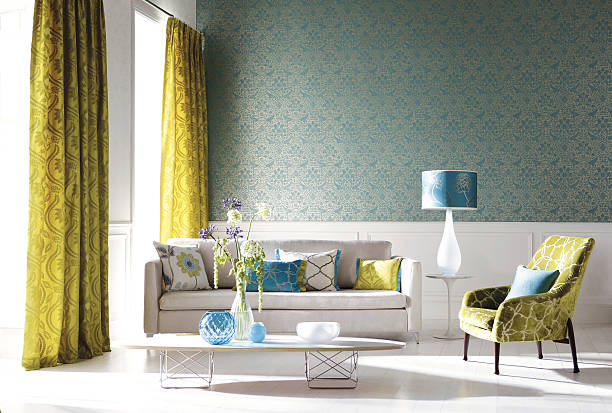chair: (455, 233, 596, 376)
flower vase: (195, 194, 269, 340)
side table: (422, 272, 470, 343)
sofa: (140, 231, 425, 344)
table: (144, 328, 406, 390)
table lamp: (417, 168, 479, 274)
